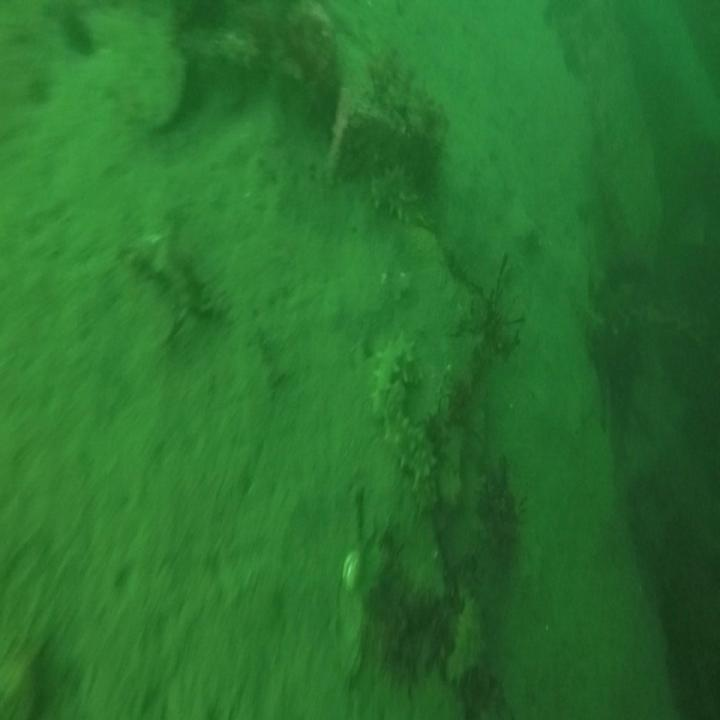holothurian: (389, 418, 441, 525), (366, 322, 420, 424), (443, 580, 489, 697), (369, 158, 427, 230), (571, 287, 608, 346)
